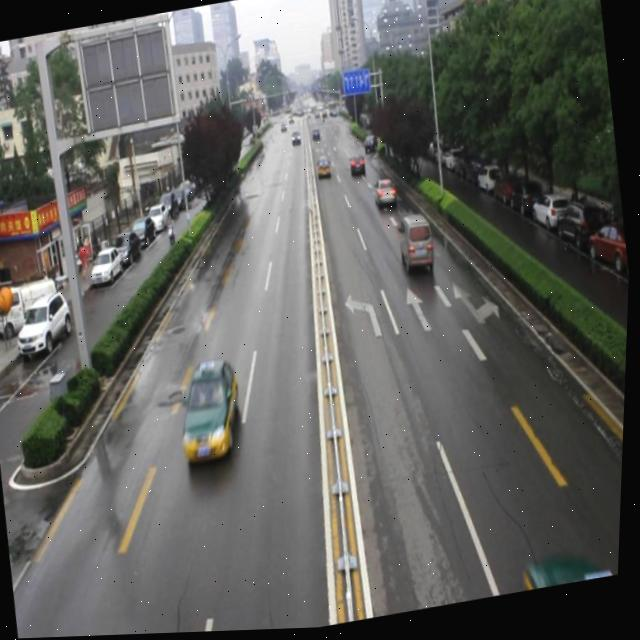car: (175, 358, 251, 466), (372, 177, 400, 212), (314, 155, 333, 184), (347, 154, 368, 179), (363, 135, 380, 156)
truck: (395, 213, 439, 280)
